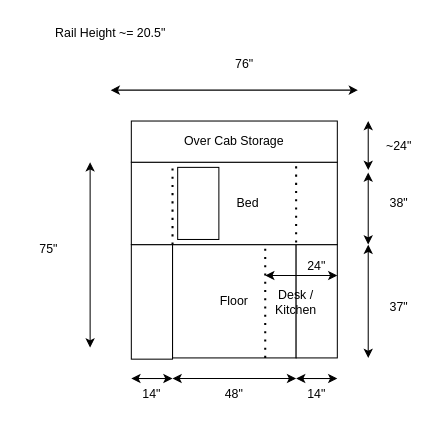
This 447x426 diagram has some shape labels left out. Here are the shapes that lost their labels. From the top down, the centre of each, then its label:
point 198,202: 74qt Fridge 32.3"x19.4"
point 151,301: Storage / Hanging
